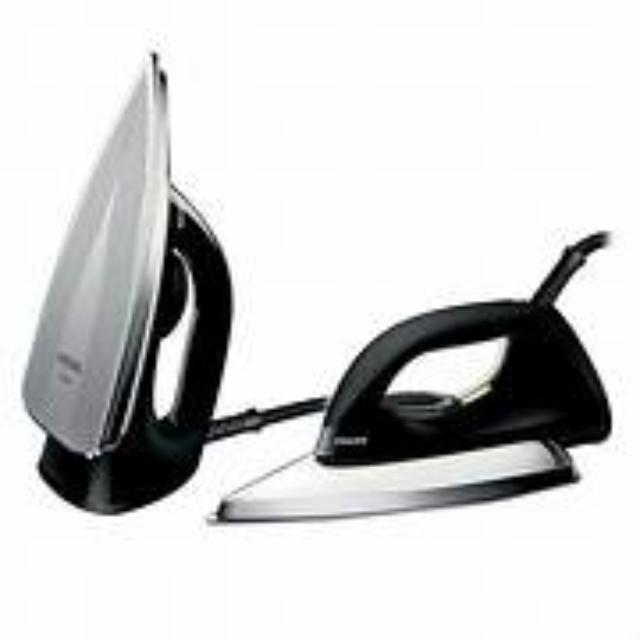Clothes-Iron: (34, 36, 235, 526), (220, 292, 616, 526)
